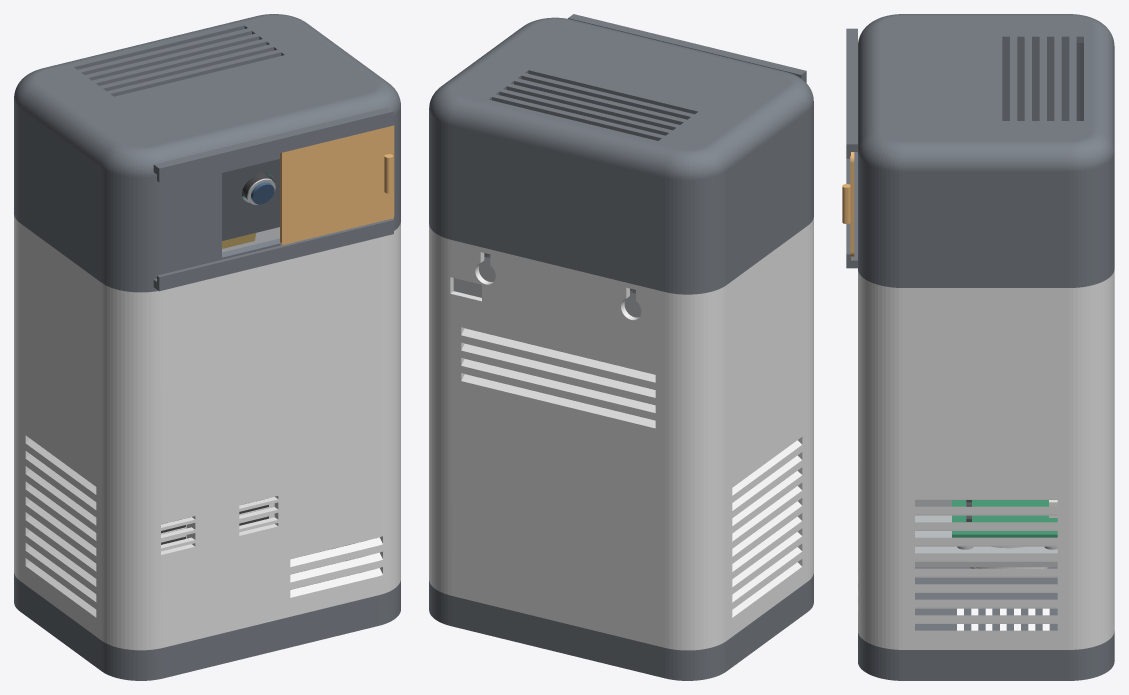
Rendered from airlens_node_concept.glb.
3 renders of one model, left to right at view 1: azimuth 30°, elevation 25°; view 2: azimuth 150°, elevation 25°; view 3: azimuth 270°, elevation 25°, orthographic.
Parts seen in each view (by area): view 1: enclosure_sleeve, enclosure_cap, enclosure_base, enclosure_shutter; view 2: enclosure_sleeve, enclosure_cap, enclosure_base, enclosure_spine; view 3: enclosure_sleeve, enclosure_cap, enclosure_base, enclosure_spine, comp_co_b4_isb__co_b4_isb_1_pcb_green, enclosure_shutter.
Part boxes in pixels (box(x1,y1,x2,y2)): enclosure_sleeve: box(14, 215, 400, 650); enclosure_cap: box(14, 14, 400, 292); enclosure_base: box(14, 541, 400, 680); enclosure_shutter: box(280, 125, 394, 245); enclosure_sleeve: box(429, 217, 813, 650); enclosure_cap: box(429, 14, 813, 294); enclosure_base: box(429, 573, 813, 680); enclosure_spine: box(453, 255, 655, 420); enclosure_sleeve: box(858, 269, 1114, 649); enclosure_cap: box(846, 14, 1114, 287); enclosure_base: box(858, 567, 1114, 680); enclosure_spine: box(915, 500, 1057, 567); comp_co_b4_isb__co_b4_isb_1_pcb_green: box(952, 500, 1057, 537); enclosure_shutter: box(842, 152, 854, 257).
Bounding box in the file's own units: 120 × 205 × 95.4.
